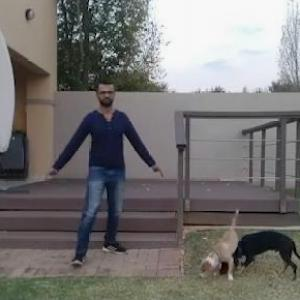land: (14, 74, 162, 279)
